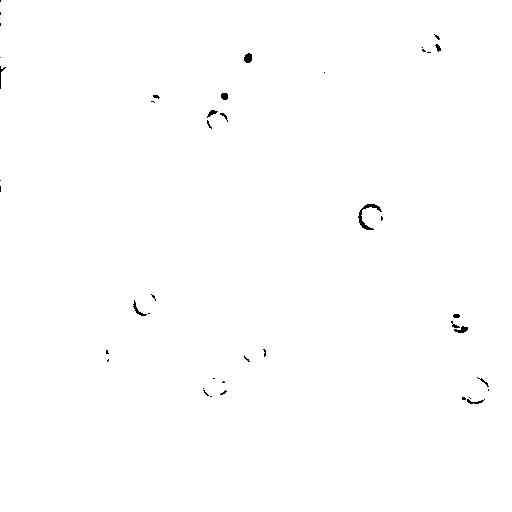micro-algae: (321, 117, 397, 194), (28, 415, 98, 481), (461, 281, 511, 335), (87, 336, 124, 375), (455, 372, 491, 407), (229, 39, 265, 72), (206, 77, 239, 109), (191, 8, 221, 37), (357, 201, 385, 231), (129, 288, 157, 316), (152, 0, 199, 16), (437, 25, 465, 51), (415, 29, 444, 53), (200, 374, 230, 397), (203, 108, 230, 133), (241, 339, 267, 364), (319, 53, 344, 78), (446, 311, 473, 333), (209, 0, 249, 14), (1, 63, 18, 90), (0, 0, 17, 25), (497, 0, 512, 19)
